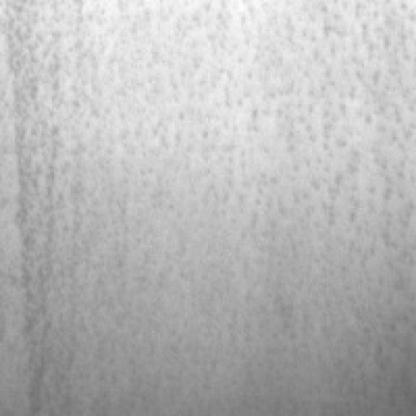pitted_surface: (52, 2, 406, 300), (10, 4, 69, 416)
